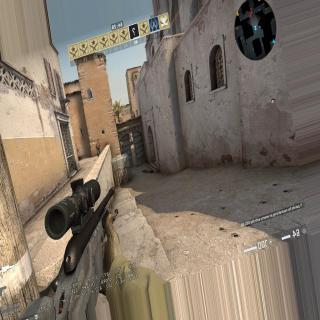T-Body: (96, 138, 101, 156)
T-Head: (97, 139, 99, 142)
